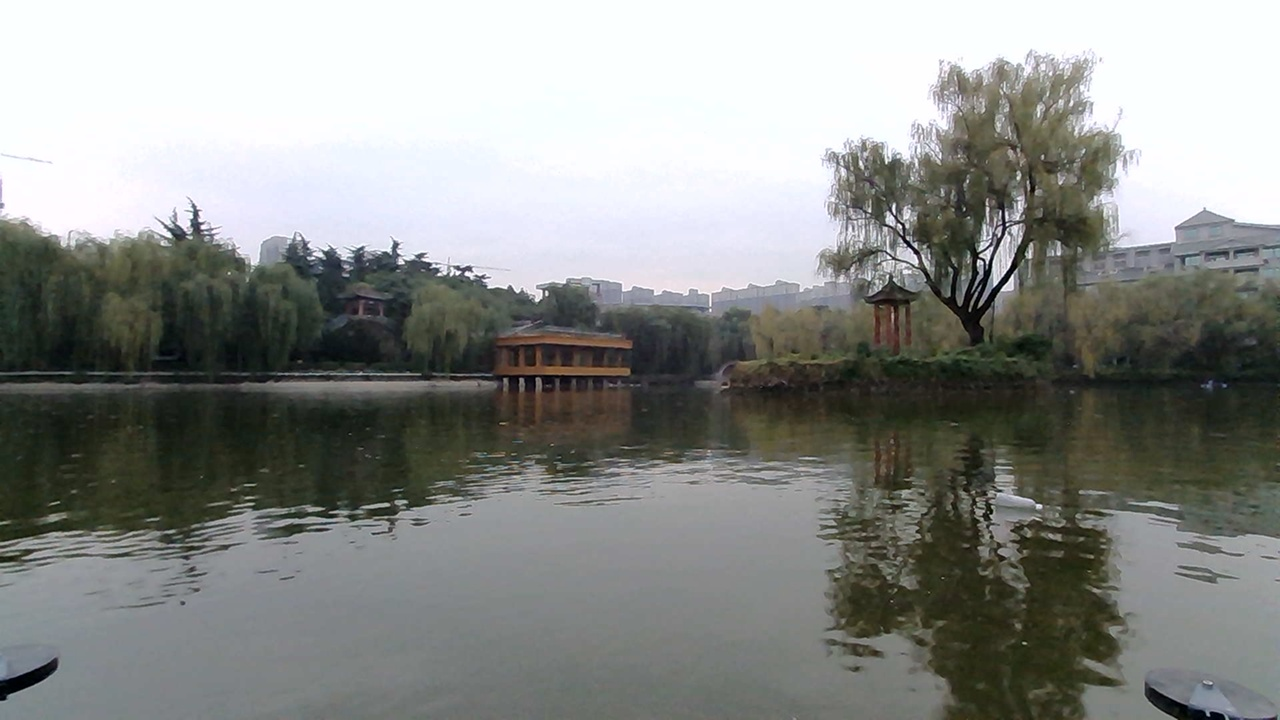bottle: (988, 486, 1052, 519)
